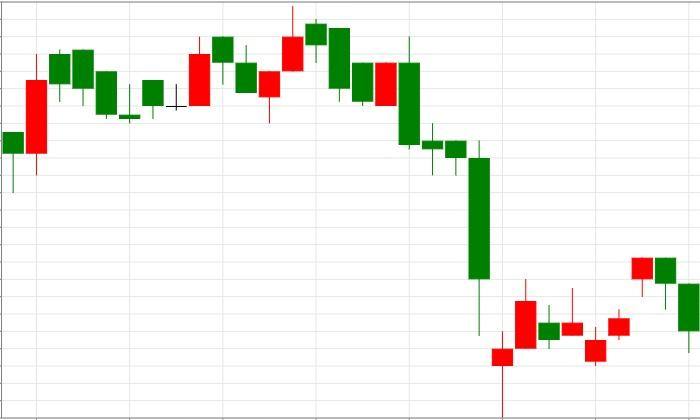bearish_engulfing_fall: (585, 257, 677, 367)
